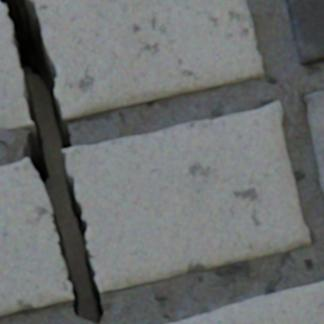brick: (169, 281, 323, 323), (285, 0, 323, 66), (302, 91, 323, 197)
broken_brick: (62, 102, 309, 292), (30, 0, 262, 120), (0, 159, 73, 315), (0, 4, 33, 130)
crack: (0, 0, 104, 323)
